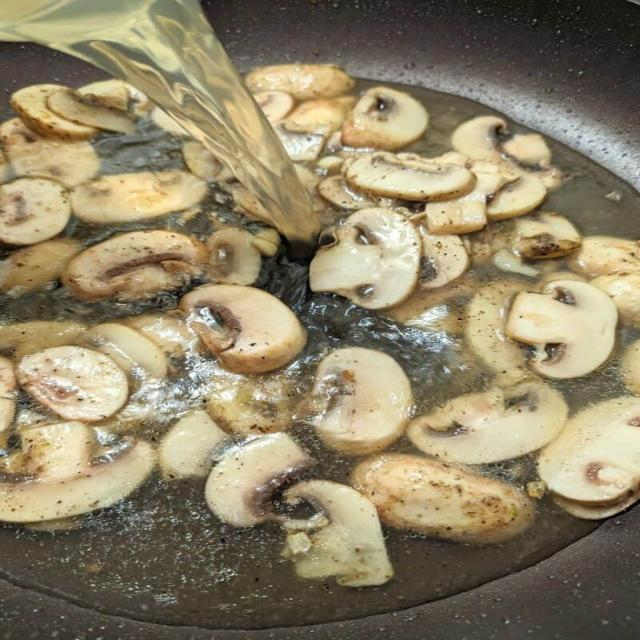champignon mushrooms: (352, 454, 533, 543), (0, 423, 154, 522), (407, 383, 567, 464), (283, 481, 393, 587), (310, 208, 421, 308), (180, 285, 306, 373), (505, 281, 617, 378), (538, 398, 639, 504), (313, 348, 413, 455), (63, 230, 207, 300), (206, 434, 313, 526), (17, 347, 128, 422), (452, 116, 563, 190), (72, 170, 206, 224), (0, 119, 99, 187), (345, 152, 475, 201), (466, 281, 527, 385), (207, 372, 298, 435), (342, 87, 428, 150), (389, 275, 474, 335), (424, 172, 505, 234), (158, 409, 228, 480), (80, 323, 168, 379), (0, 178, 71, 245), (11, 85, 97, 140), (0, 239, 80, 297), (246, 64, 354, 100), (47, 89, 135, 133), (0, 320, 86, 359), (418, 224, 469, 289), (122, 314, 199, 357), (514, 212, 581, 259), (207, 228, 261, 285), (568, 236, 639, 277), (78, 79, 153, 117), (452, 116, 506, 166), (487, 175, 546, 220), (591, 272, 639, 326), (287, 97, 355, 133), (554, 493, 639, 520), (274, 121, 329, 161), (318, 176, 375, 209), (229, 183, 273, 223), (78, 79, 133, 111), (182, 140, 224, 181), (502, 134, 551, 166), (0, 358, 16, 448), (492, 249, 539, 277), (254, 91, 294, 122), (151, 107, 189, 137), (620, 340, 639, 395), (254, 228, 281, 256), (0, 149, 10, 182)
